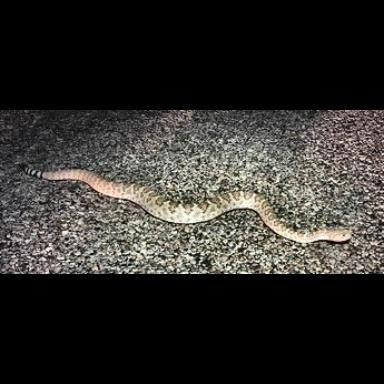snake: (33, 169, 352, 245)
